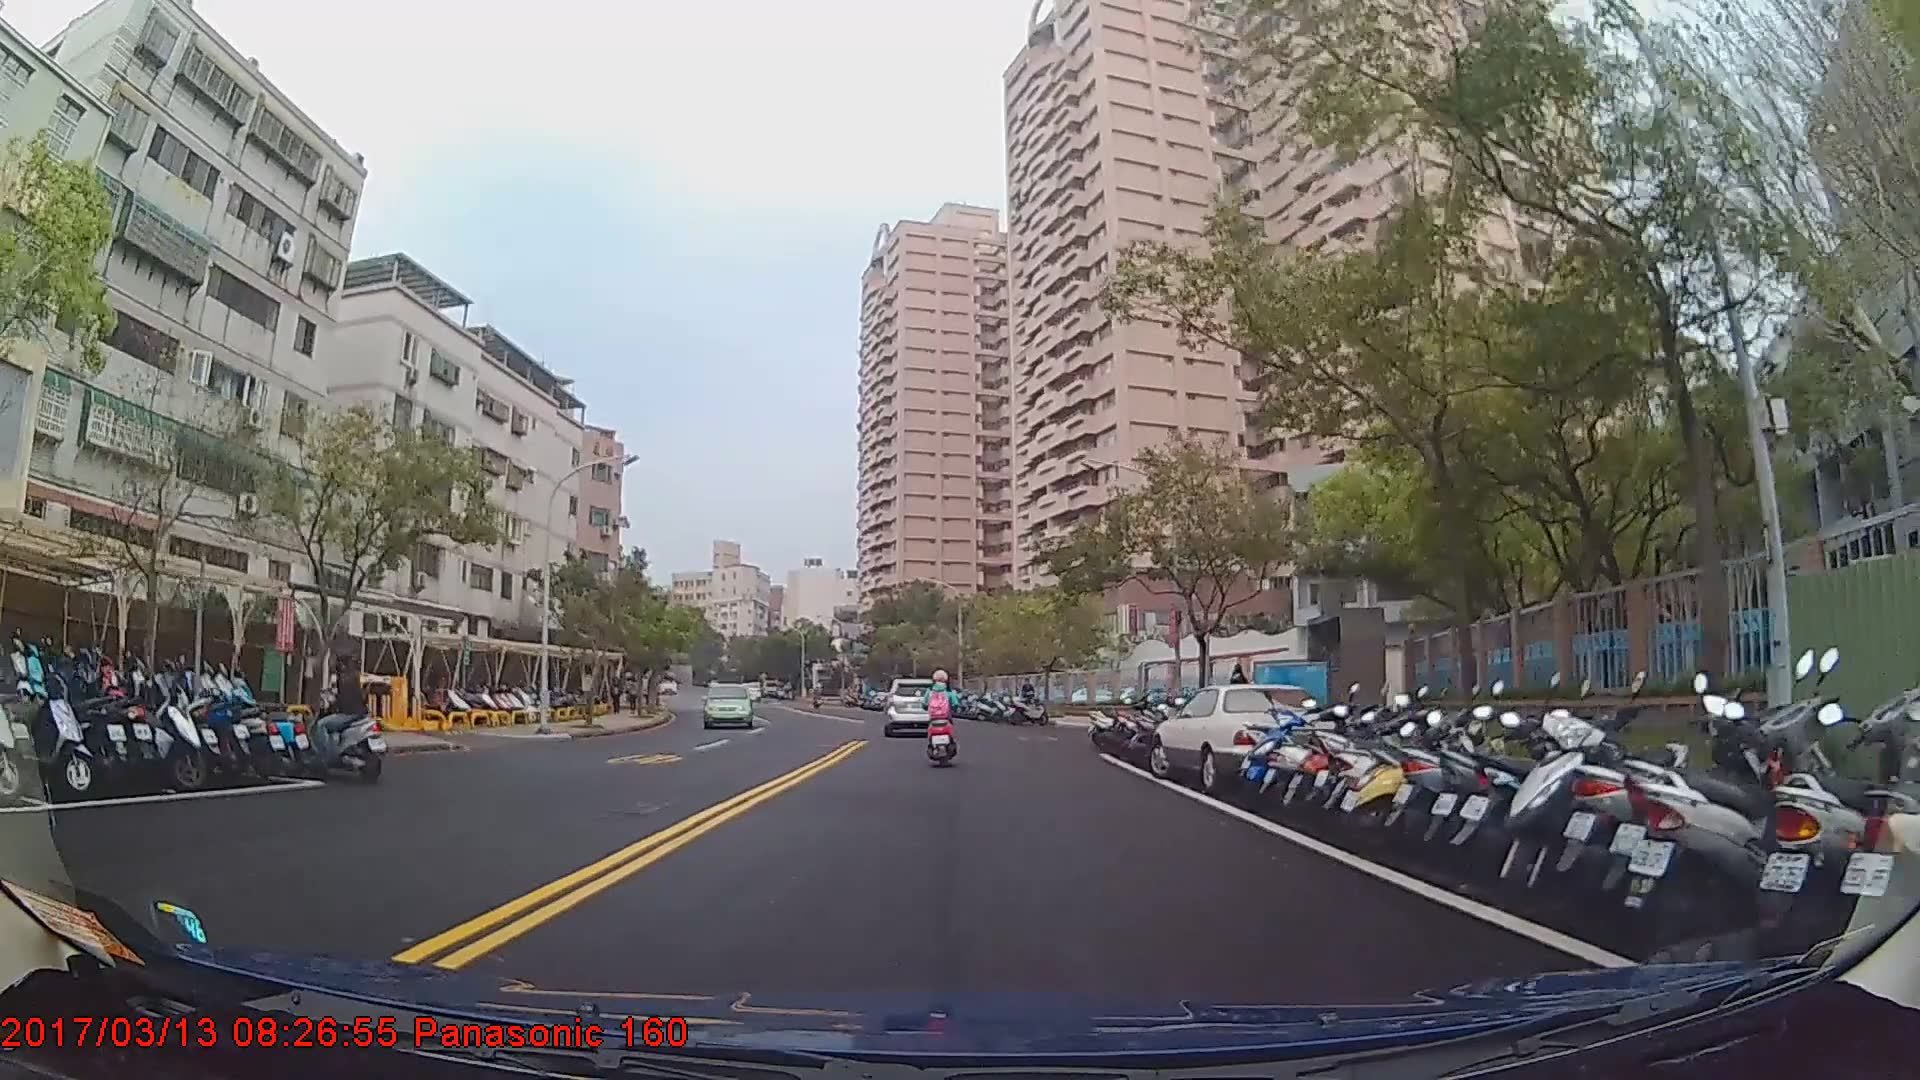pedestrian: (1229, 664, 1253, 727)
rider: (299, 647, 373, 772), (922, 669, 961, 770)
vehicle: (1150, 681, 1337, 791), (879, 677, 942, 736), (700, 682, 754, 731)
